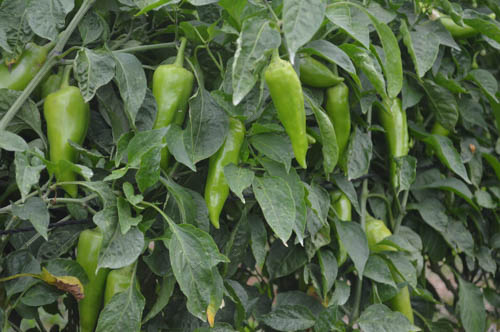ChiliPepper: (365, 221, 416, 320), (44, 89, 89, 195), (269, 63, 310, 165), (153, 67, 191, 170), (207, 118, 241, 226), (378, 97, 405, 185), (78, 230, 101, 329), (325, 88, 350, 166), (297, 53, 344, 85), (107, 274, 140, 319), (329, 194, 353, 239)
